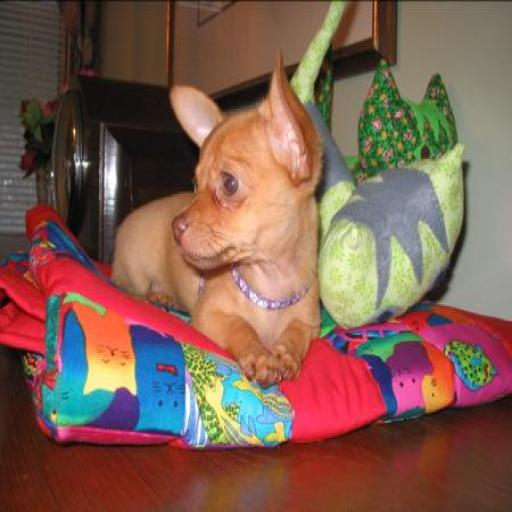dog_face: (168, 72, 304, 264)
